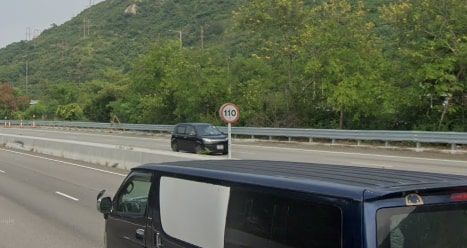Speed Limit: (220, 101, 240, 125)
